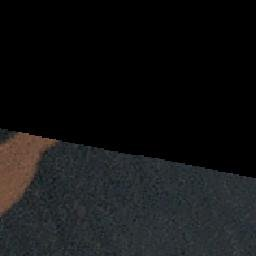debris: (1, 141, 50, 193)
